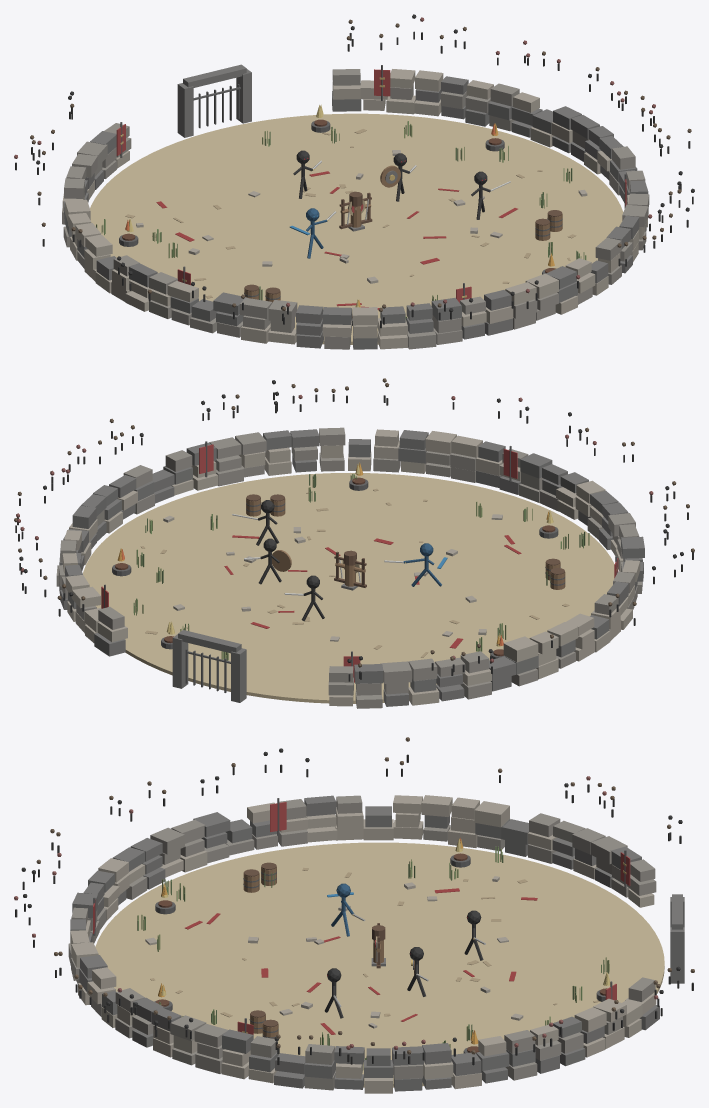
The model's file is full_arena_coliseum_blockout.glb.
3 renders of one model, top to bottom at view 1: azimuth 30°, elevation 25°; view 2: azimuth 150°, elevation 25°; view 3: azimuth 270°, elevation 25°, orthographic. The views are drawn at different scales.
Visible parts, largest first — view 1: arena_floor, gate_left_pillar, gate_top_block, gate_right_pillar, wall_block_46_2, wall_block_42_2, wall_block_39_2, wall_block_8_2, wall_block_40_2; view 2: arena_floor, gate_left_pillar, gate_right_pillar, gate_top_block, wall_block_28_2, wall_block_23_2, wall_block_50_2, wall_block_22_2, wall_block_57_2, wall_block_46_2, wall_block_24_2, wall_block_49_2; view 3: arena_floor, gate_right_pillar, wall_block_28_2, wall_block_30_2, wall_block_3_1, wall_block_34_2, wall_block_59_2, wall_block_40_2, wall_block_32_1, wall_block_38_2, wall_block_23_2, wall_block_27_1 (+5 smaller).
Part boxes in pixels (box(x1,y1,x2,y2)): arena_floor: box(90, 113, 623, 344); gate_left_pillar: box(177, 83, 193, 137); gate_top_block: box(183, 64, 246, 87); gate_right_pillar: box(236, 69, 251, 123); wall_block_46_2: box(431, 297, 461, 321); wall_block_42_2: box(322, 307, 351, 324); wall_block_39_2: box(240, 297, 272, 318); wall_block_8_2: box(415, 70, 443, 91); wall_block_40_2: box(268, 300, 297, 322); arena_floor: box(83, 473, 614, 703); gate_left_pillar: box(231, 648, 246, 702); gate_right_pillar: box(172, 634, 188, 688); gate_top_block: box(178, 630, 241, 653); wall_block_28_2: box(503, 636, 538, 662); wall_block_23_2: box(380, 661, 411, 683); wall_block_50_2: box(425, 431, 456, 454); wall_block_22_2: box(354, 664, 383, 683); wall_block_57_2: box(235, 432, 266, 454); wall_block_46_2: box(520, 453, 552, 478); wall_block_24_2: box(408, 658, 437, 680); wall_block_49_2: box(451, 435, 482, 457); arena_floor: box(95, 842, 664, 1087); gate_right_pillar: box(670, 927, 684, 983); wall_block_28_2: box(474, 801, 509, 827); wall_block_30_2: box(421, 795, 452, 816); wall_block_3_1: box(451, 1052, 481, 1076); wall_block_34_2: box(304, 795, 336, 816); wall_block_59_2: box(222, 1029, 253, 1053); wall_block_40_2: box(150, 827, 184, 854); wall_block_32_1: box(365, 806, 391, 827); wall_block_38_2: box(193, 812, 230, 837); wall_block_23_2: box(591, 836, 627, 864); wall_block_27_1: box(501, 819, 528, 844).
Size of the model in its own units: 22.65 by 2.79 by 21.43.
